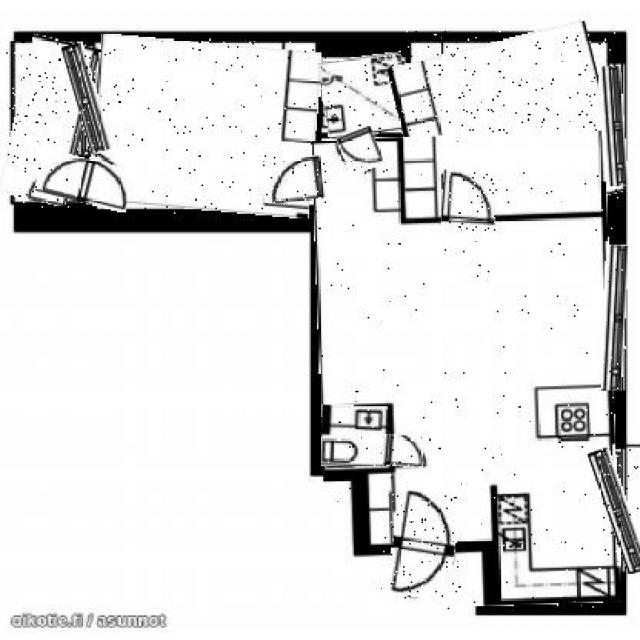door: (391, 492, 458, 598), (37, 154, 132, 209), (442, 171, 496, 231), (262, 157, 326, 201), (340, 129, 382, 174), (385, 434, 423, 468)
window: (598, 446, 638, 574), (69, 43, 106, 154), (602, 244, 626, 390), (602, 66, 626, 186)
zone: (317, 132, 615, 610), (397, 32, 618, 230), (91, 38, 318, 214), (6, 37, 92, 205), (322, 56, 408, 136), (322, 406, 388, 466)
